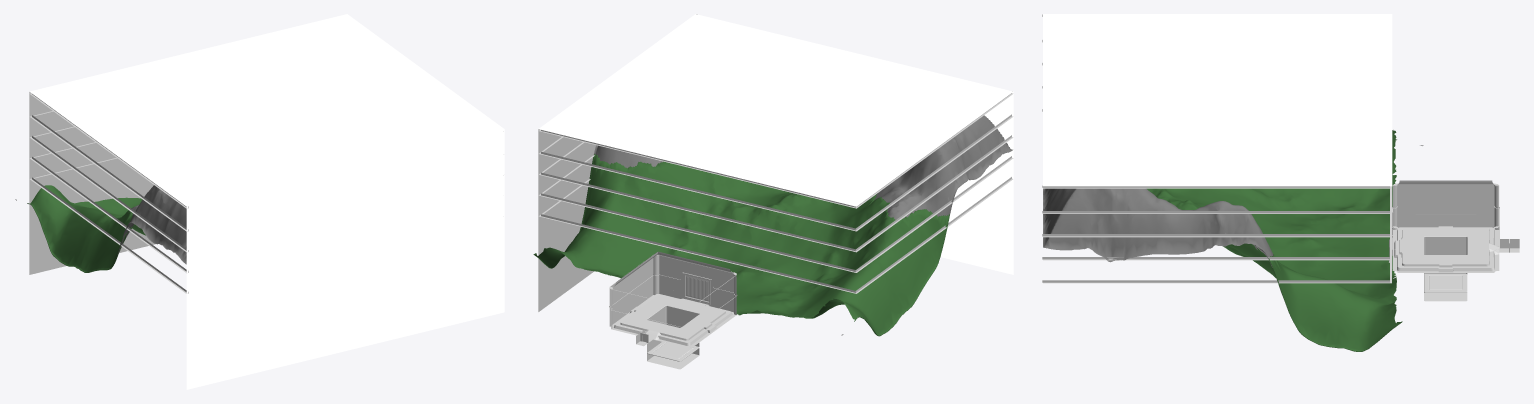
Rendered from sodaboxarena.glb.
3 views of the same model, side by side, from view 1: azimuth 30°, elevation 25°; view 2: azimuth 150°, elevation 25°; view 3: azimuth 270°, elevation 25° (orthographic). The views are drawn at different scales.
Visible parts, largest first — view 1: outsidelight, outerwalls, grass, rock; view 2: outsidelight, grass, outerwalls, arena, rock, bigdoor, floor; view 3: outsidelight, grass, rock, arena, outerwalls, floor.
Part boxes in pixels (x1,y1,x2,y2): outsidelight: (29, 14, 504, 389); outerwalls: (29, 92, 503, 293); grass: (27, 185, 145, 272); rock: (15, 185, 186, 264); outsidelight: (539, 14, 1013, 274); grass: (533, 154, 949, 336); outerwalls: (538, 14, 1013, 311); arena: (609, 251, 737, 369); rock: (593, 115, 1012, 335); bigdoor: (682, 272, 711, 304); floor: (647, 342, 699, 361); outsidelight: (1043, 14, 1392, 186); grass: (1147, 130, 1402, 351); rock: (1043, 145, 1423, 295); arena: (1392, 180, 1519, 301); outerwalls: (1042, 14, 1391, 283); floor: (1424, 273, 1467, 292).
Bounding box in the file's own units: 160 × 88.15 × 187.
